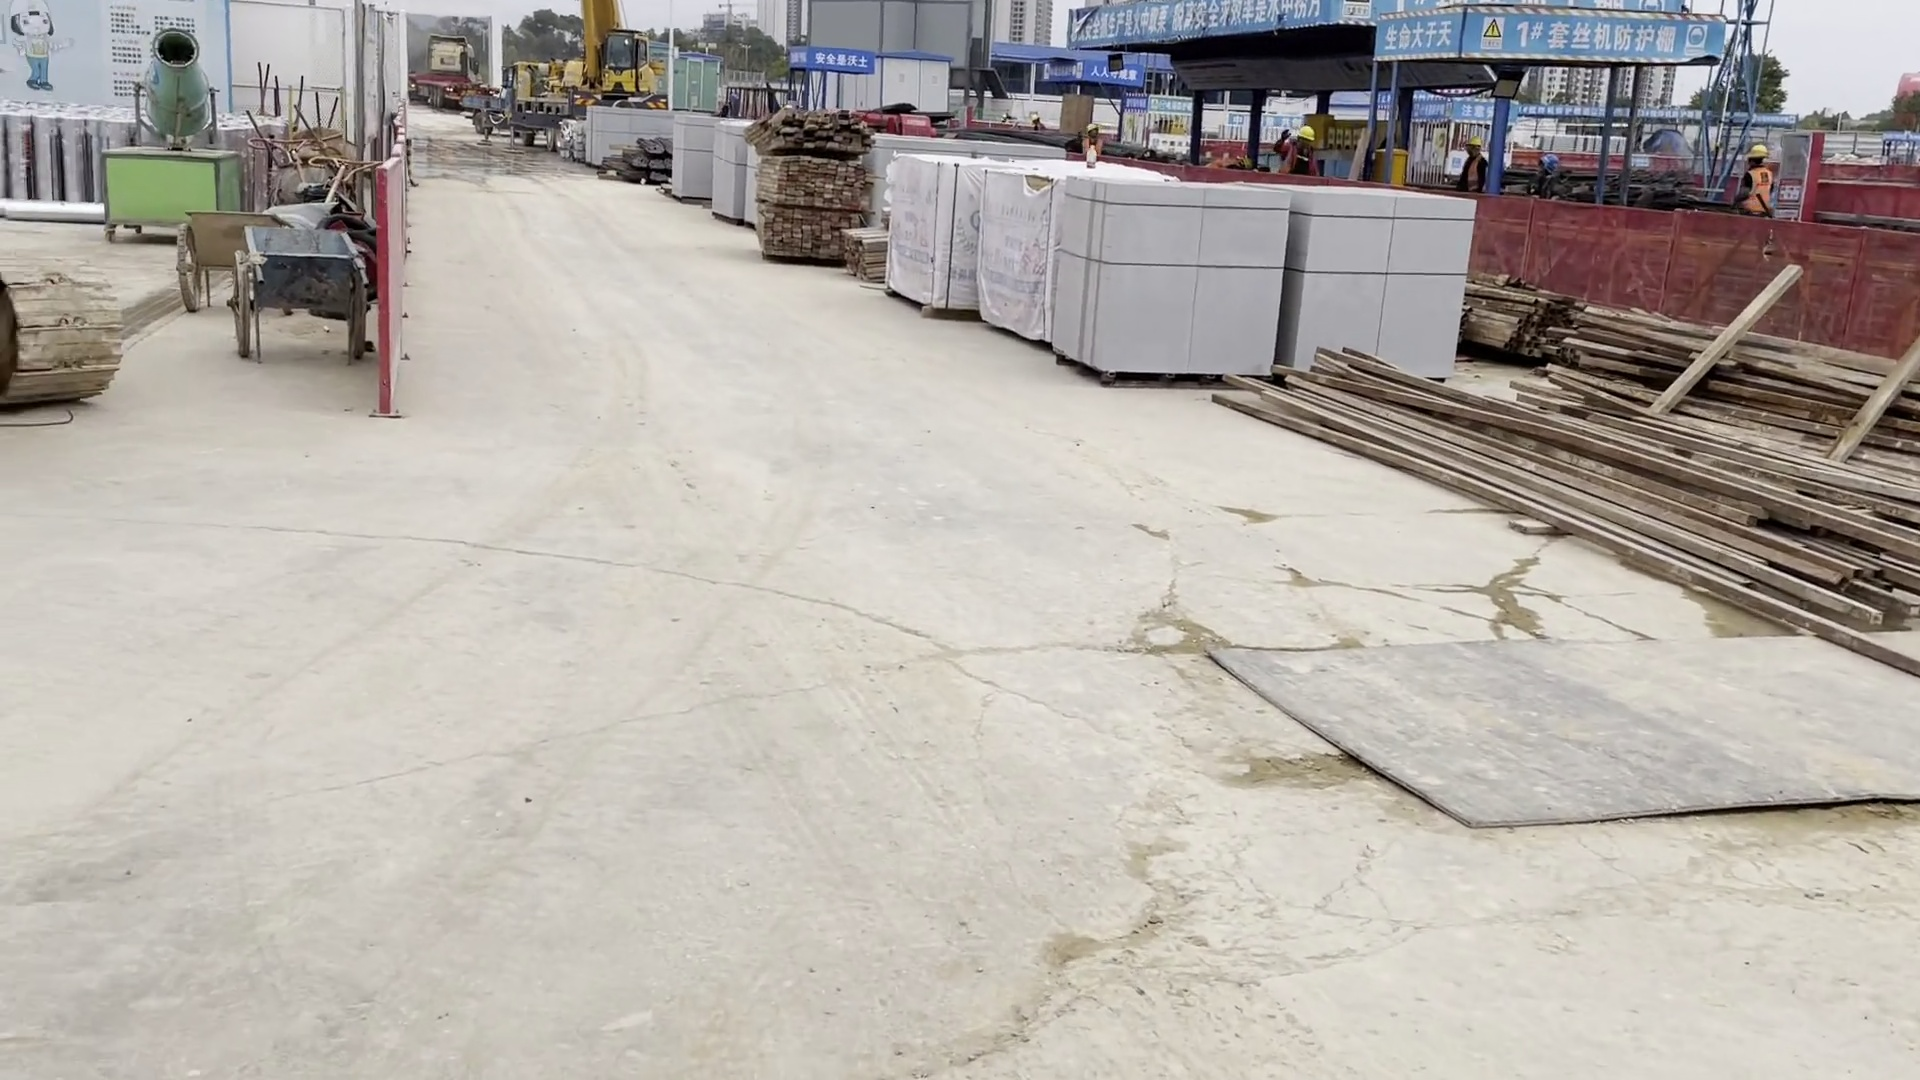brick: (1067, 175, 1462, 390)
handcart: (171, 203, 375, 377)
slogan: (1062, 5, 1730, 90)
wood: (1346, 313, 1920, 657), (749, 105, 869, 276)
